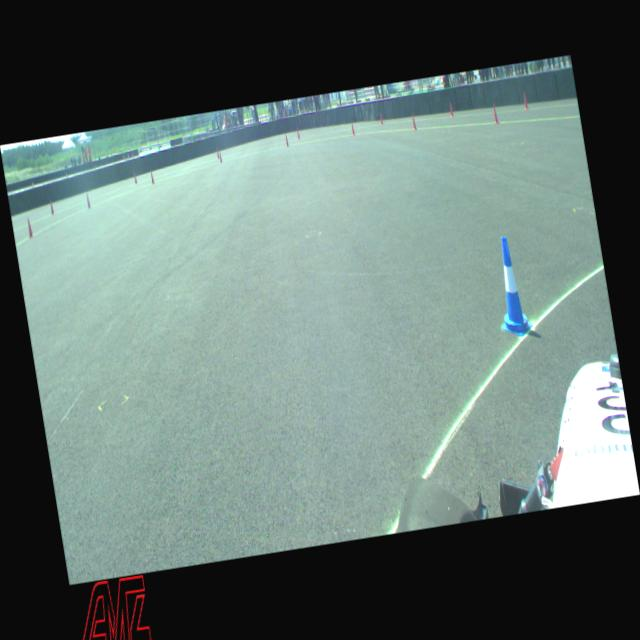blue_cone: (488, 234, 534, 338)
